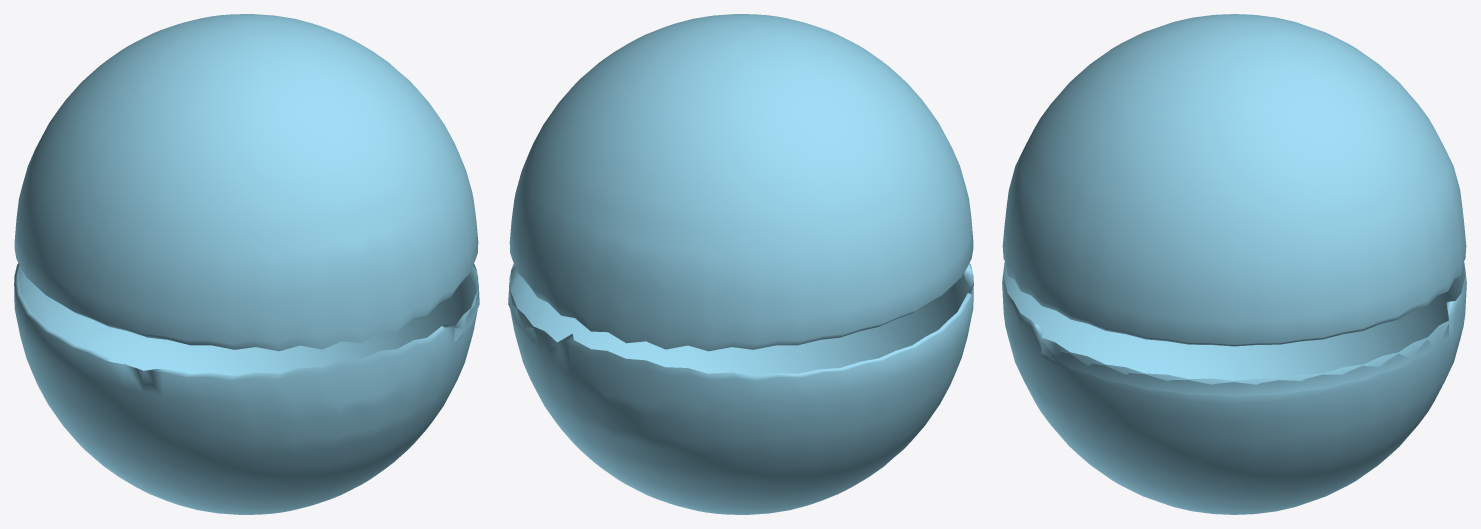
File: universalAxion8.gltf
3 renders of one model, left to right at view 1: azimuth 30°, elevation 25°; view 2: azimuth 150°, elevation 25°; view 3: azimuth 270°, elevation 25°, orthographic.
Visible parts, largest first — view 1: Sphere.Bottom; view 2: Sphere.Bottom; view 3: Sphere.Bottom.
Boxes of the visible parts, x1,y1,x2,y2 form: Sphere.Bottom: [14, 14, 479, 514]; Sphere.Bottom: [508, 14, 973, 514]; Sphere.Bottom: [1002, 14, 1466, 514].
Bounding box in the file's own units: 1.26 × 1.36 × 1.25.
